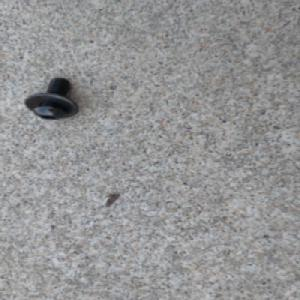BoltWasher: (22, 76, 82, 121)
